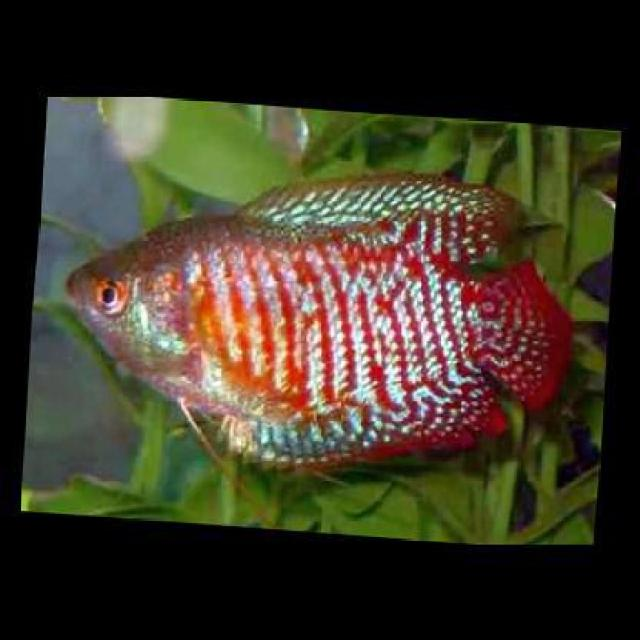Gourami: (67, 167, 576, 470)
